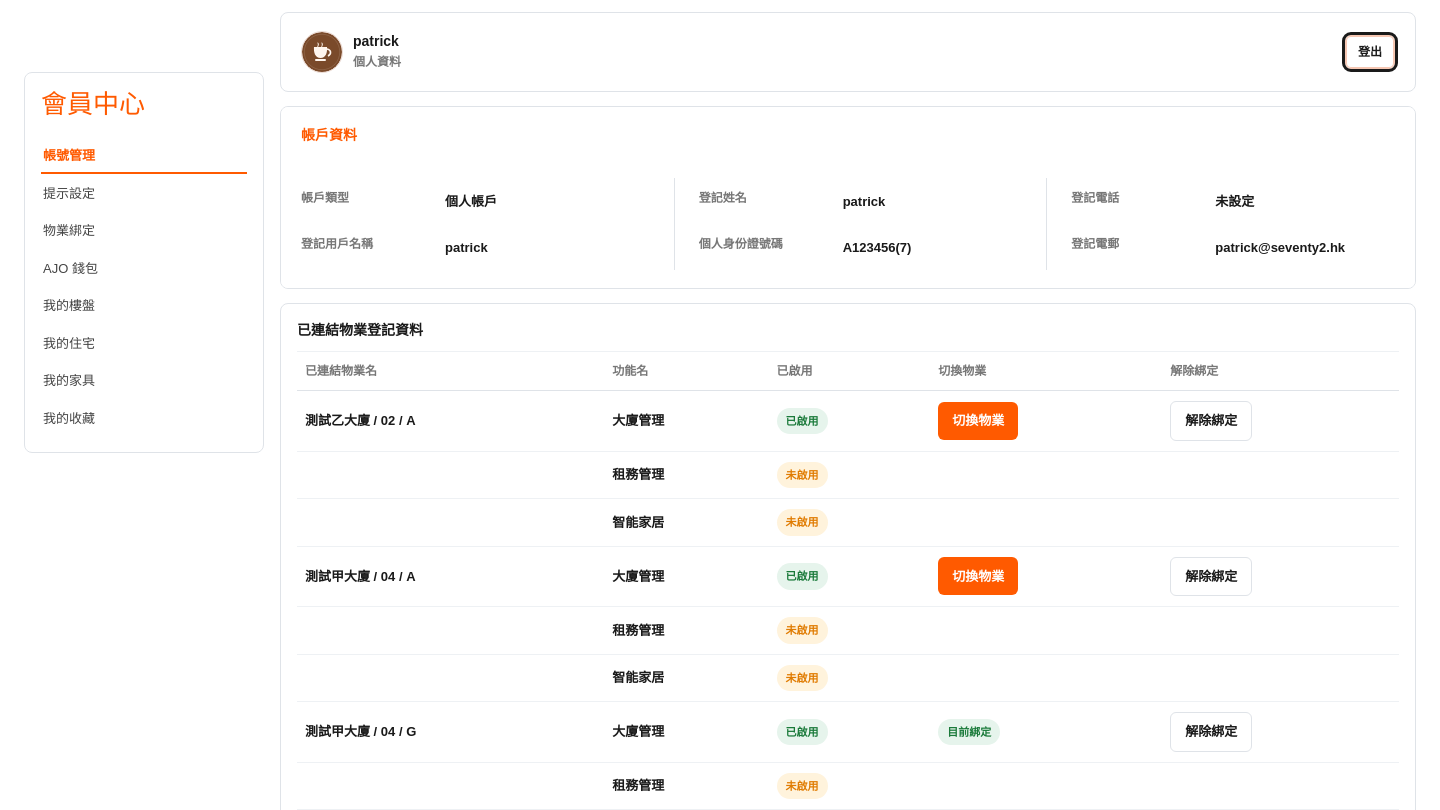
AccountMyPage lazy data loading › switches to same-building and cross-building units after a successful save
Click the button "切換物業" in the row of "測試甲大廈 / 04 / A" at (978, 576), box [938, 557, 1018, 595]
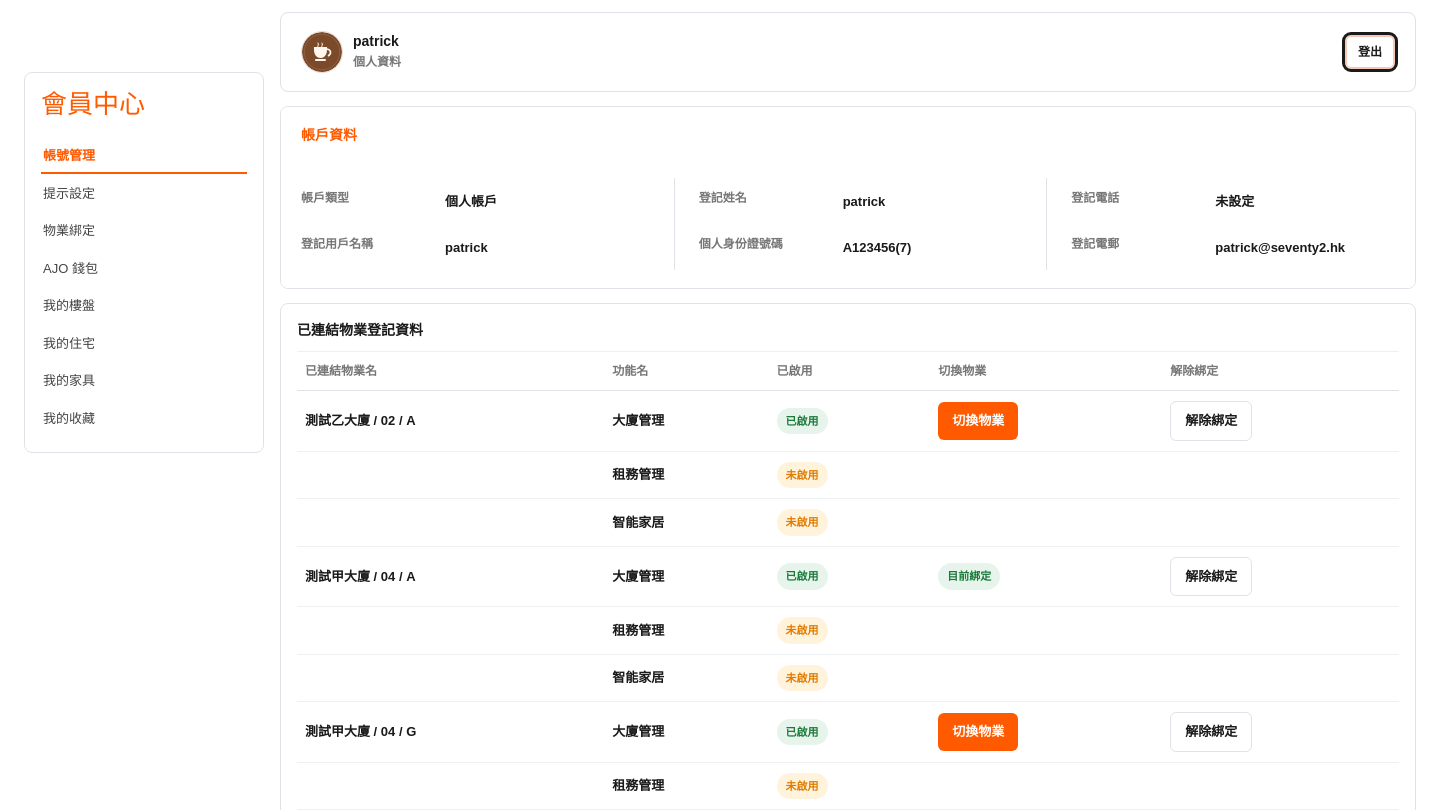
Now the row "測試甲大廈 / 04 / A 大廈管理 已啟用 目前綁定 解除綁定" is shown, box [297, 546, 1399, 606]
Click the button "切換物業" in the row of "測試乙大廈 / 02 / A" at (978, 421), box [938, 402, 1018, 440]
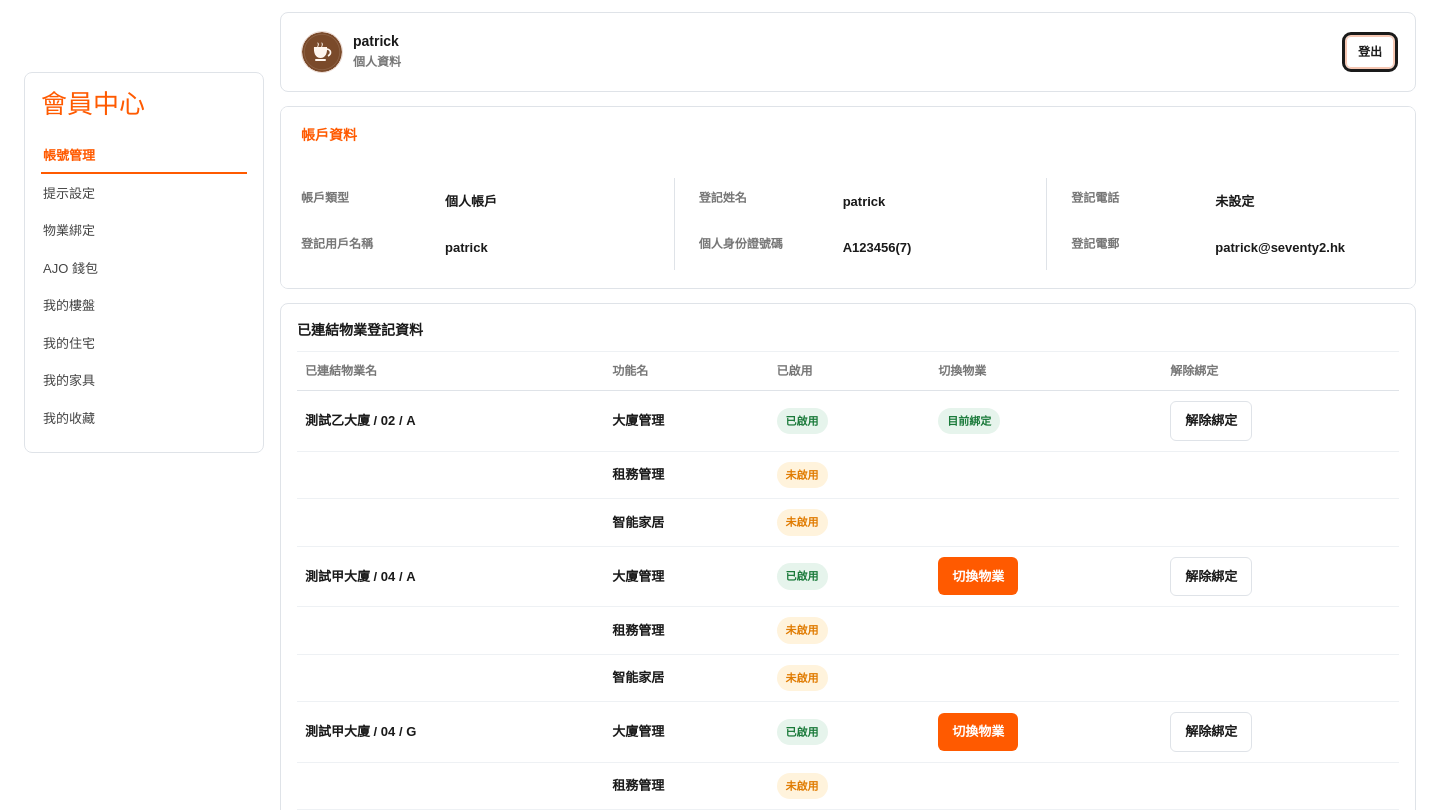
Now the row "測試乙大廈 / 02 / A 大廈管理 已啟用 目前綁定 解除綁定" is shown, box [297, 390, 1399, 451]
